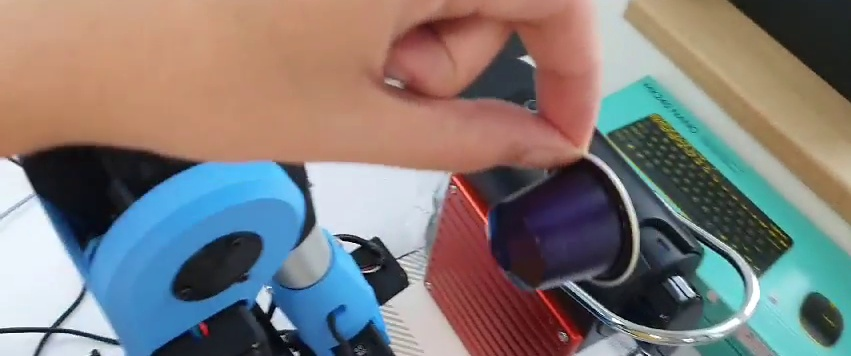capsule_2: (487, 145, 641, 292)
